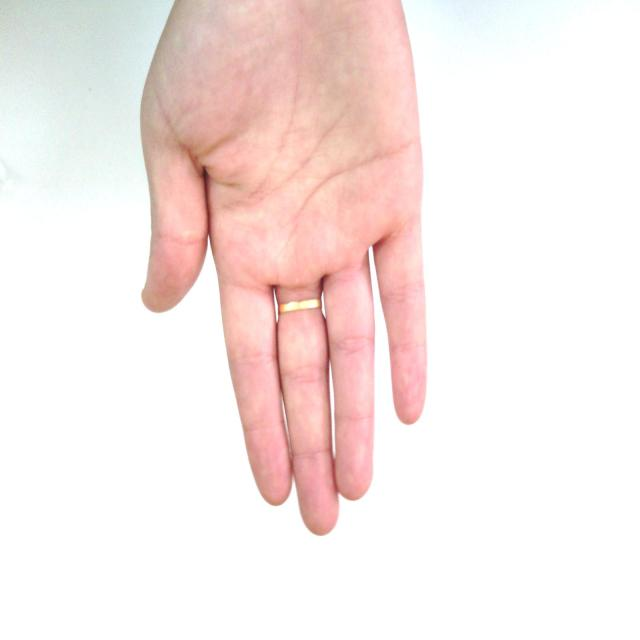hand: (131, 0, 441, 540)
